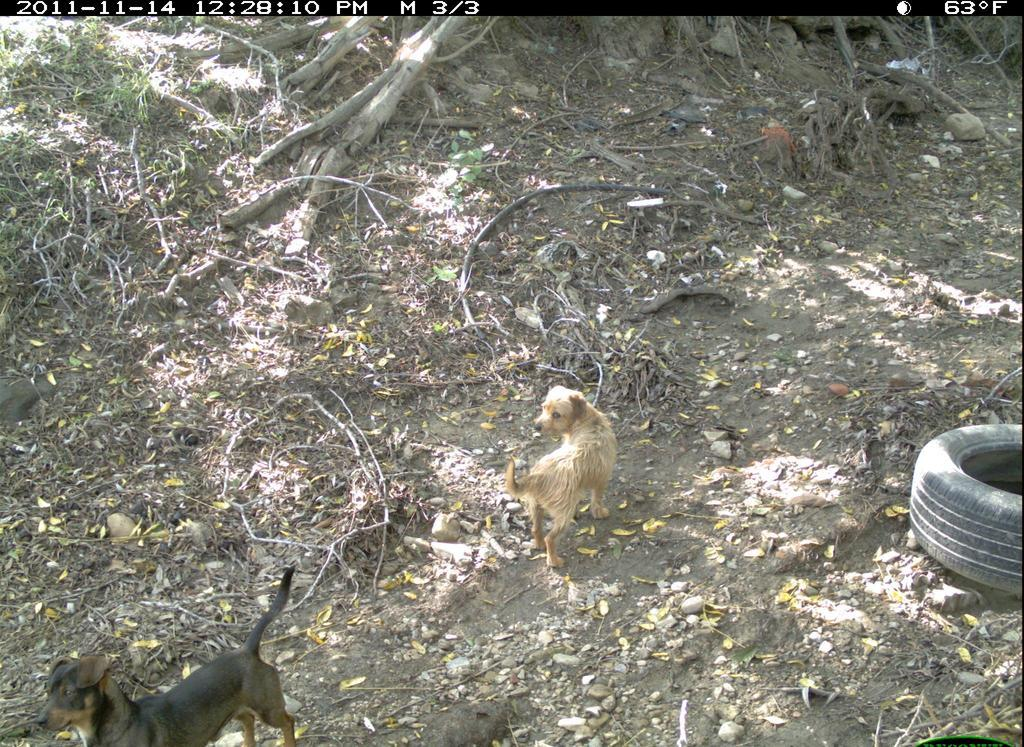dog: (17, 560, 309, 747), (495, 380, 626, 575)
